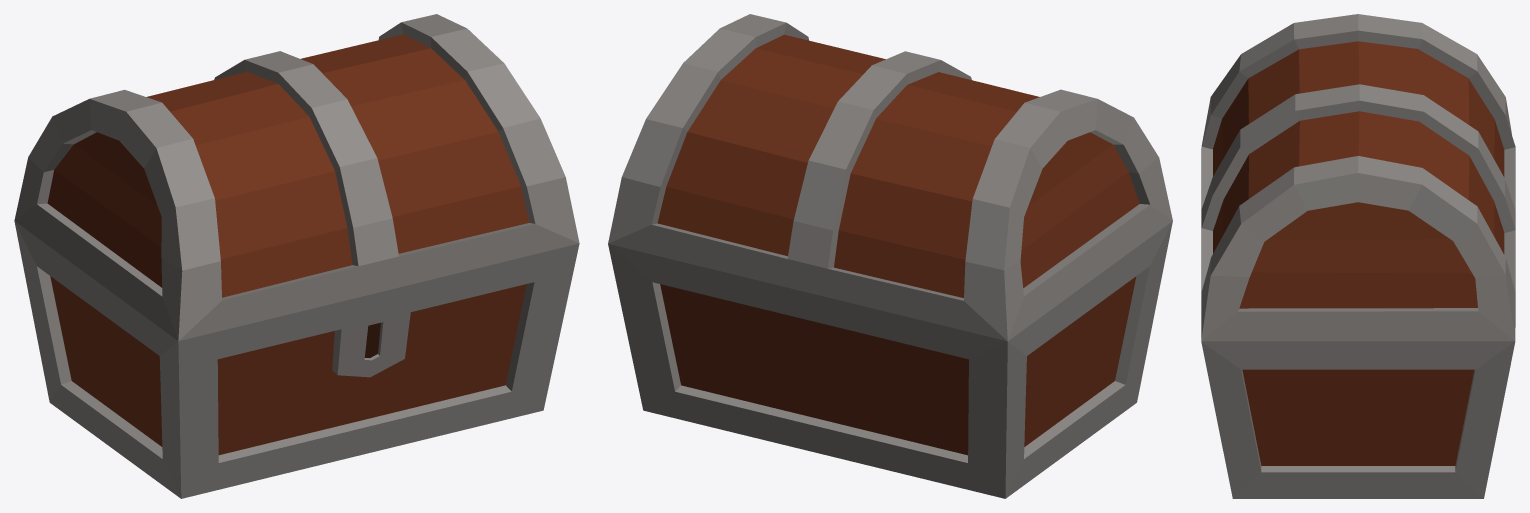
File: Chest_closed_tex.fbx
3 renders of one model, left to right at view 1: azimuth 30°, elevation 25°; view 2: azimuth 150°, elevation 25°; view 3: azimuth 270°, elevation 25°, orthographic. The views are drawn at different scales.
Visible parts, largest first — view 1: Chest_closed_tex; view 2: Chest_closed_tex; view 3: Chest_closed_tex.
Boxes of the visible parts, left/top/right/bottom form: Chest_closed_tex: left=14, top=14, right=579, bottom=498; Chest_closed_tex: left=608, top=14, right=1172, bottom=498; Chest_closed_tex: left=1201, top=14, right=1515, bottom=498.
Size of the model in its own units: 0.8354 by 0.6719 by 0.5945.
